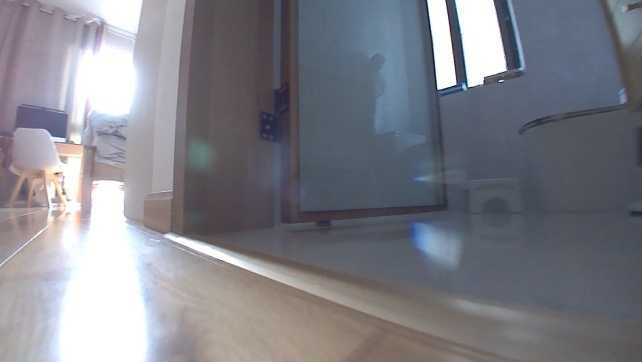toilet_part: (515, 85, 641, 212)
